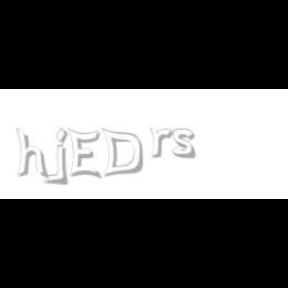D: (100, 128, 144, 178)
E: (68, 128, 101, 180)
h: (15, 128, 50, 180)
j: (54, 128, 82, 186)
r: (150, 128, 176, 158)
s: (172, 128, 200, 160)
